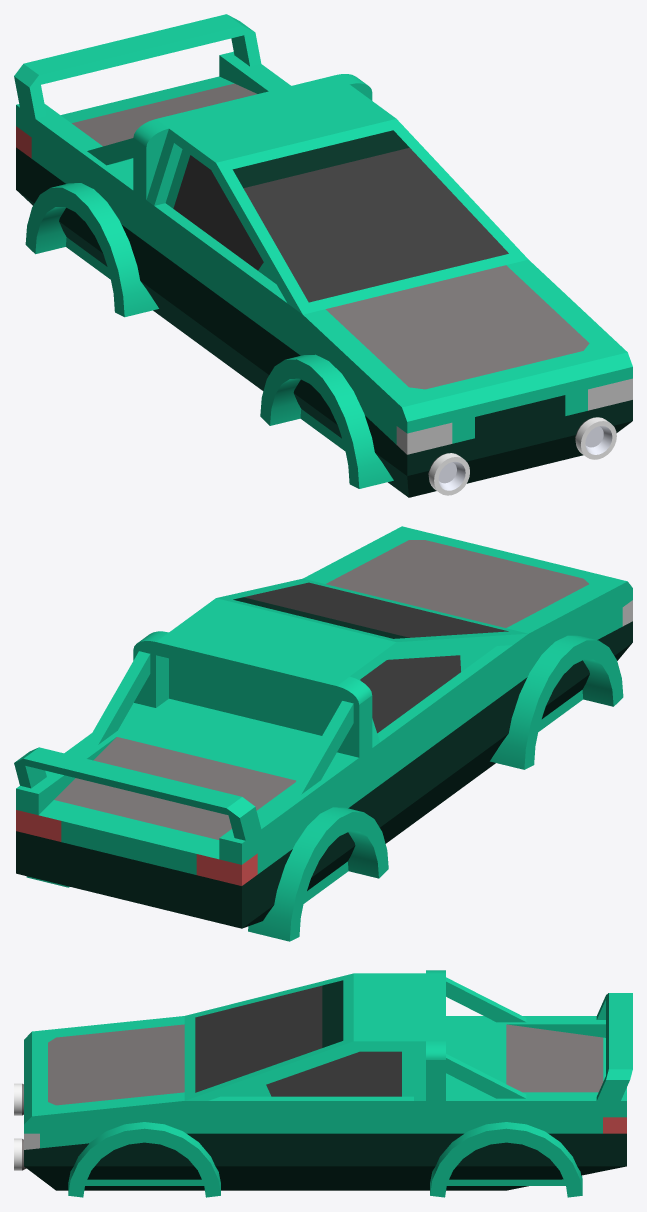
The model's file is Car.fbx.
3 renders of one model, top to bottom at view 1: azimuth 30°, elevation 25°; view 2: azimuth 150°, elevation 25°; view 3: azimuth 270°, elevation 25°, orthographic. The views are drawn at different scales.
Parts seen in each view (by area): view 1: mergedBlocks; view 2: mergedBlocks; view 3: mergedBlocks.
Boxes of the visible parts, box(x1,y1,x2,y2) form: mergedBlocks: box(14, 14, 632, 497); mergedBlocks: box(14, 526, 632, 941); mergedBlocks: box(14, 970, 632, 1197).
Bounding box in the file's own units: 11.65 × 8.2 × 30.8.
